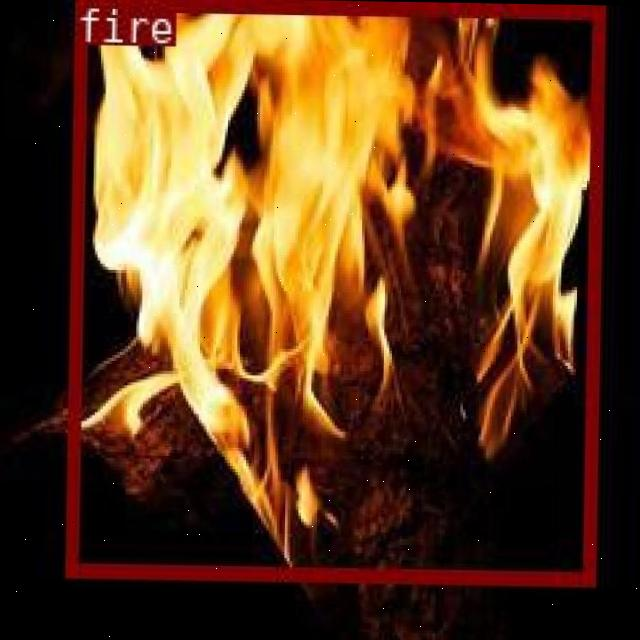fire: (63, 0, 601, 580)
